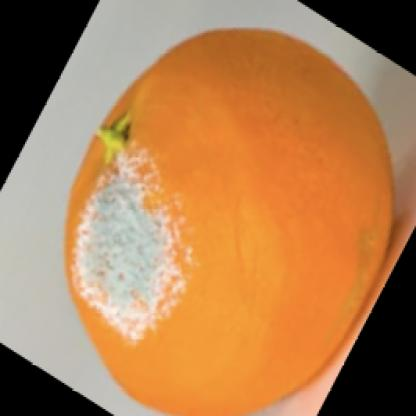rotten: (66, 28, 394, 416)
